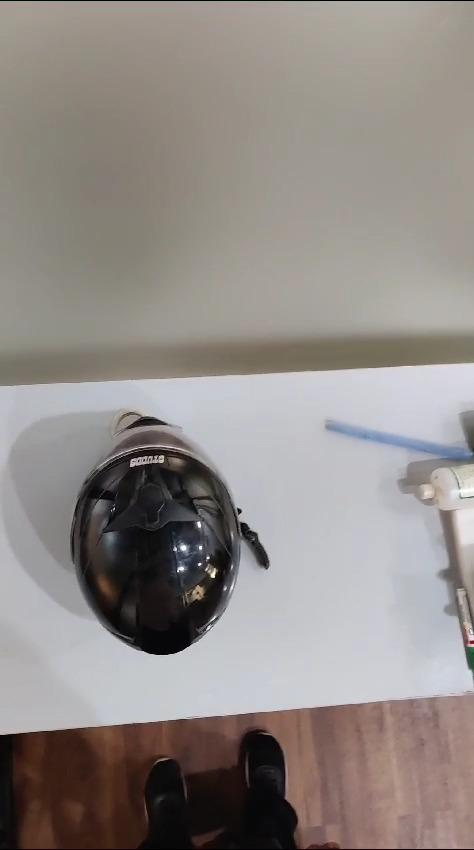Helmet: (71, 412, 268, 655)
